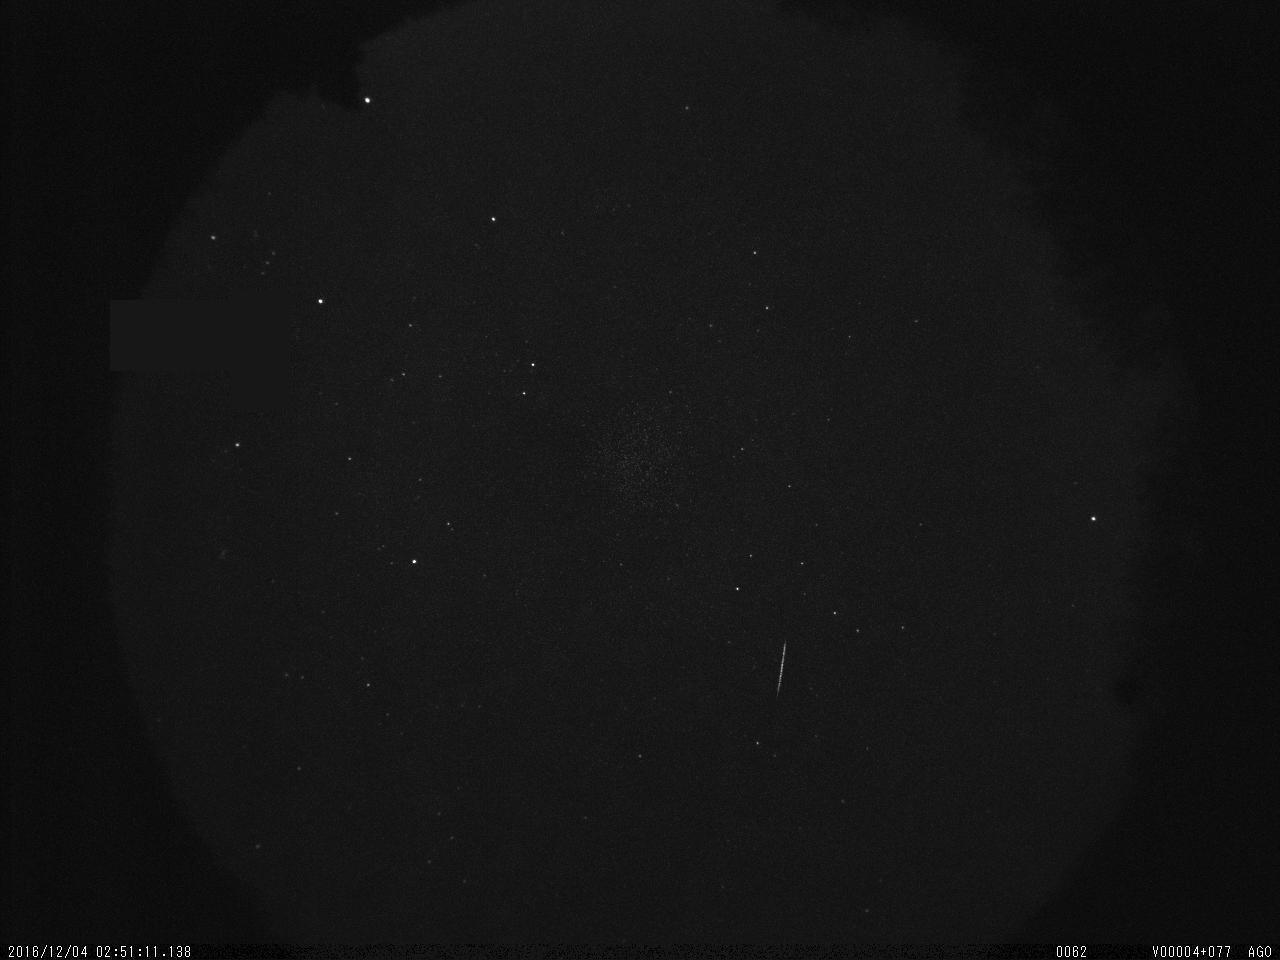Meteor: (772, 637, 791, 697)
